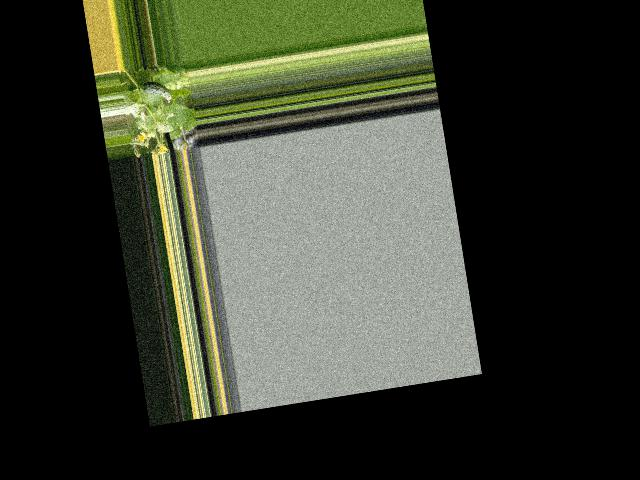cucumber: (141, 78, 172, 107)
